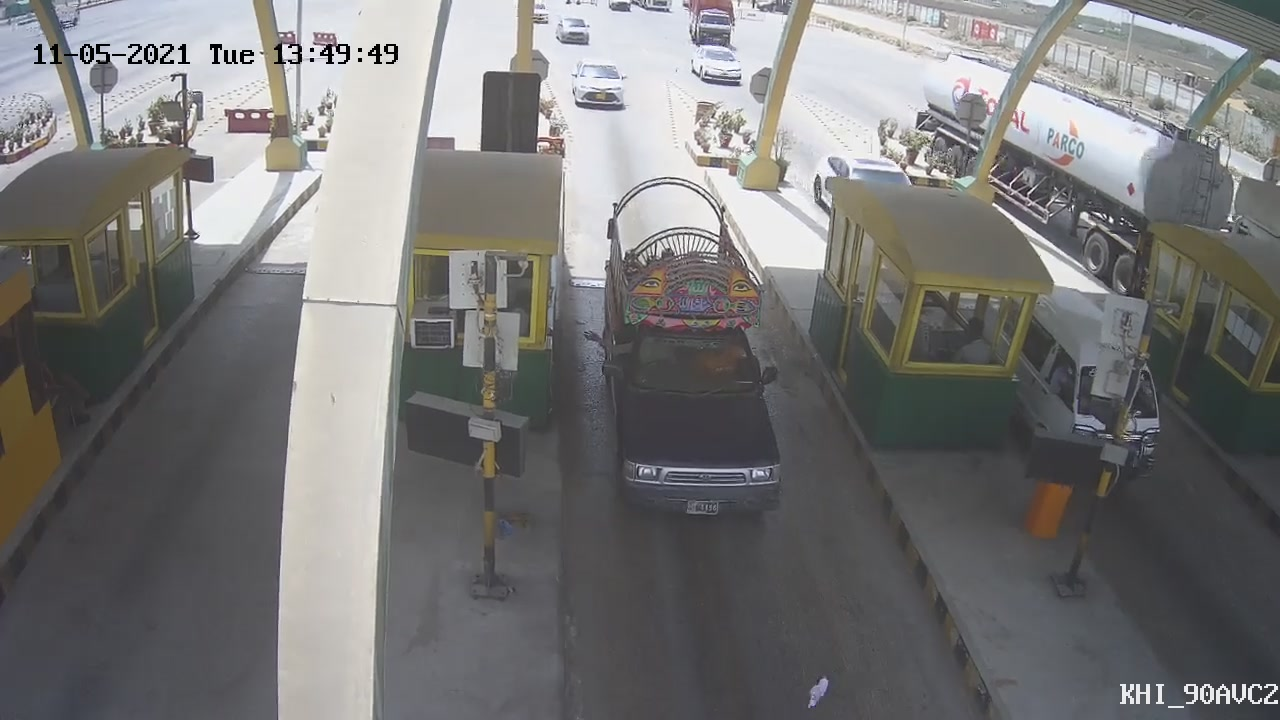F1: (593, 173, 784, 531)
